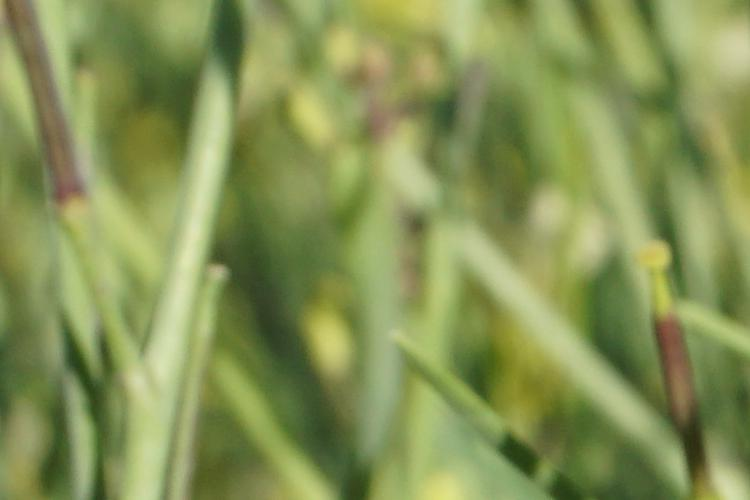pod: (620, 228, 733, 494), (7, 1, 98, 221)
